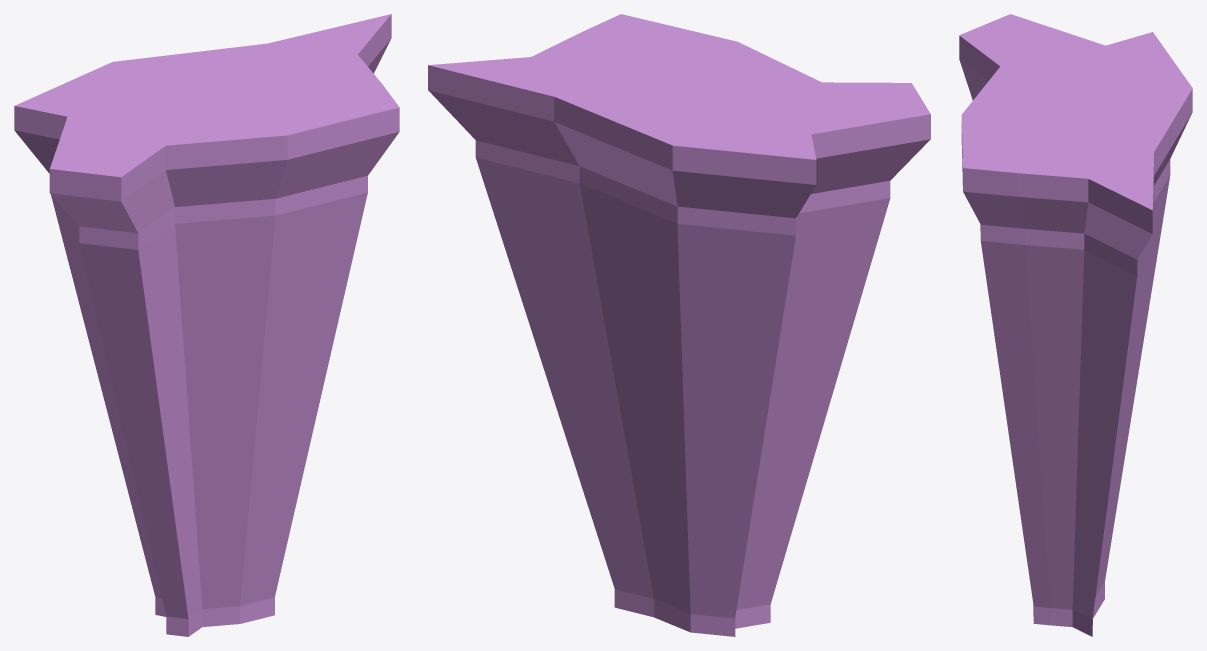
The picture shows the model from 3 angles, left to right: view 1: azimuth 30°, elevation 25°; view 2: azimuth 150°, elevation 25°; view 3: azimuth 270°, elevation 25°; orthographic projection. The views are drawn at different scales.
Visible parts, largest first — view 1: JB; view 2: JB; view 3: JB.
Part boxes in pixels (<box>): JB: <box>14,14,399,636</box>; JB: <box>428,14,930,636</box>; JB: <box>959,14,1192,636</box>.
Size of the model in its own units: 44.32 by 52.35 by 22.27.
